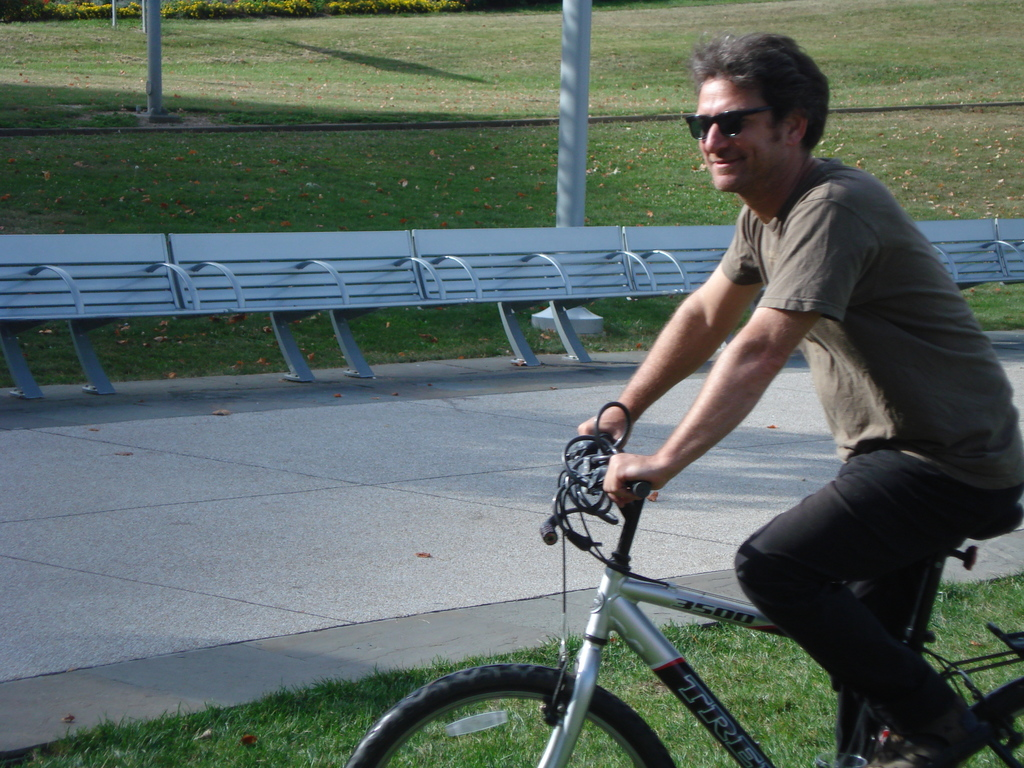Bike: (347, 423, 1013, 757)
